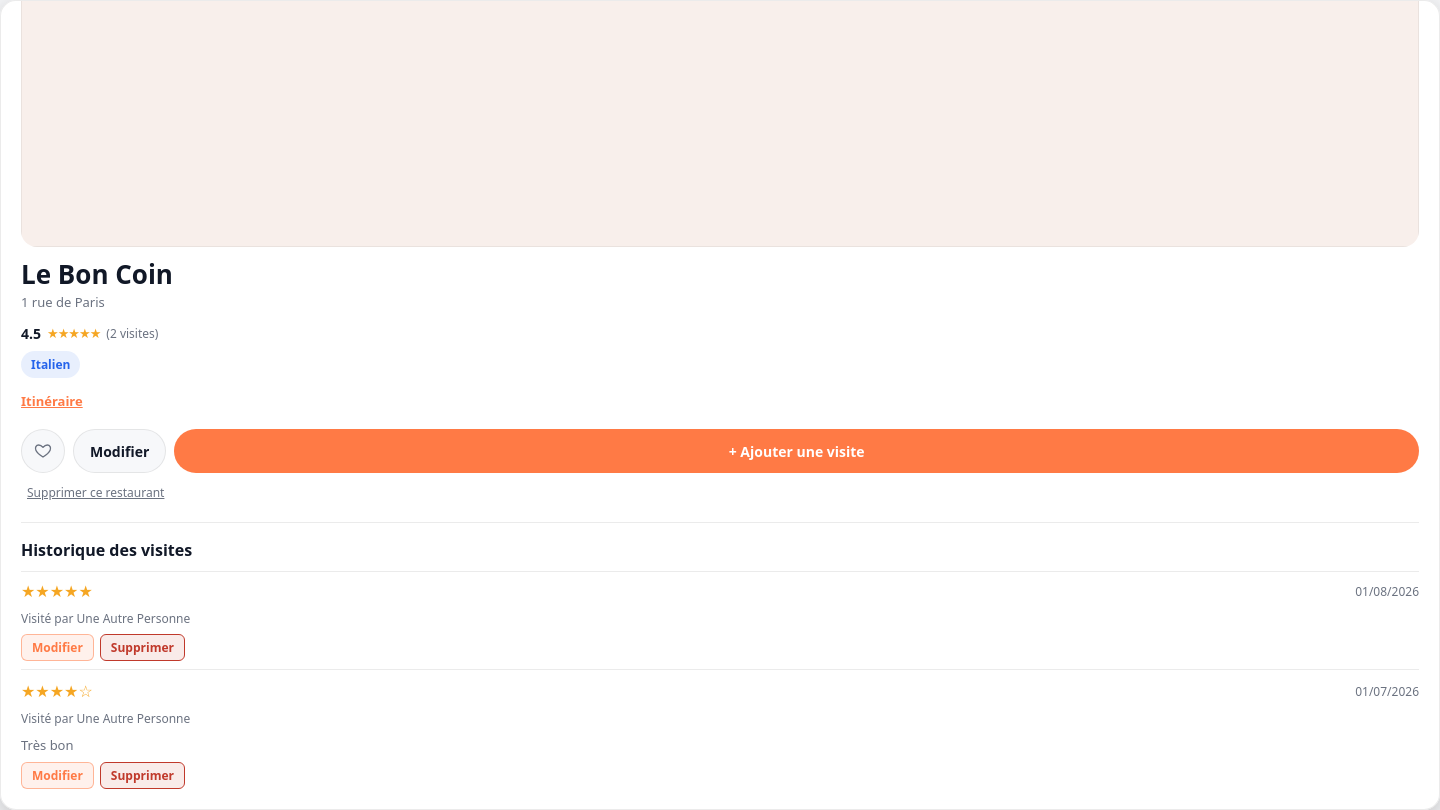
Test: RestaurantDetailPanel › bascule le favori via useFavoriToggle
The width and height of the screenshot is (1440, 810).
(page scrolled)
Click the button named "Ajouter Le Bon Coin aux favoris": (43, 451) [21,429,65,473]
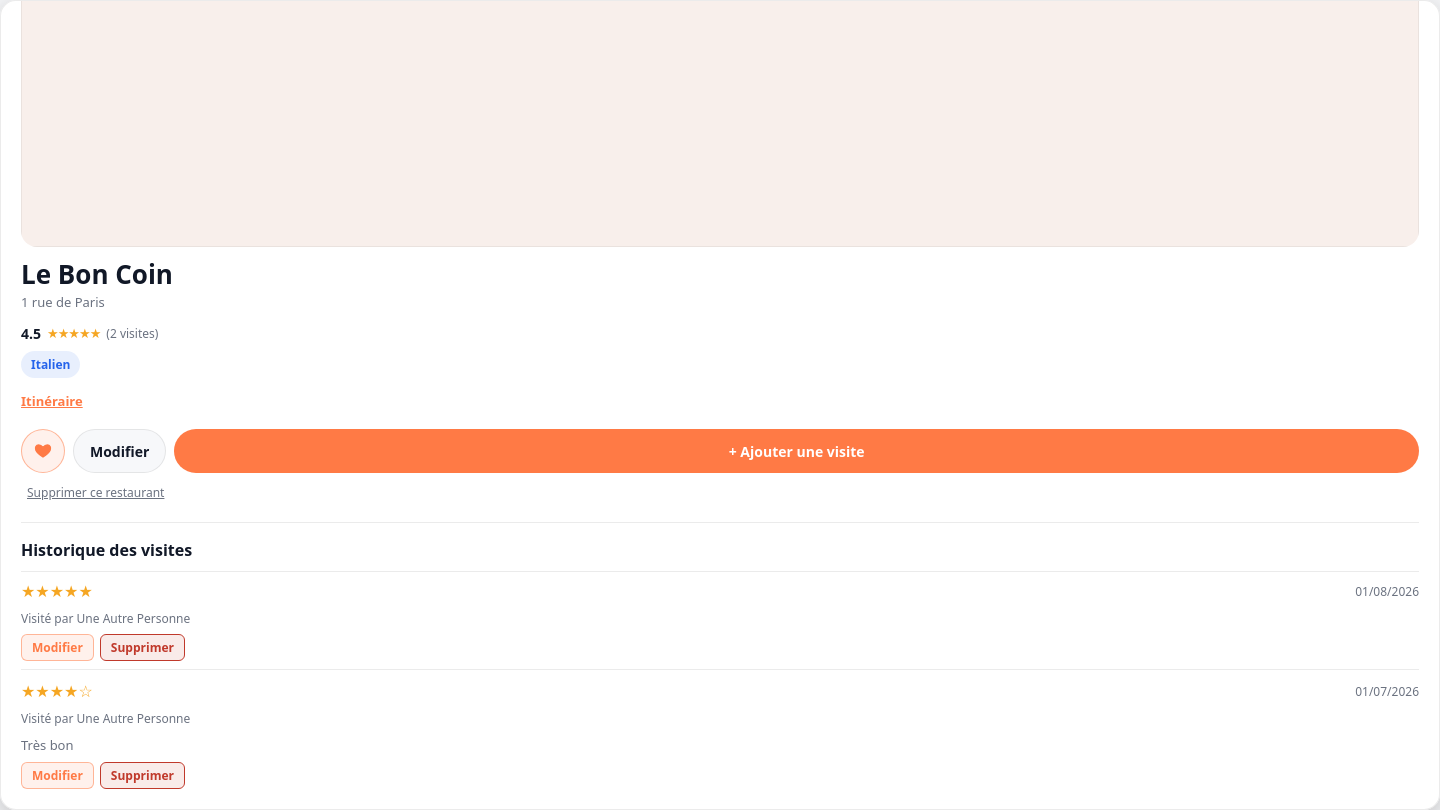
Result: the button named "Retirer Le Bon Coin des favoris" is shown at [21,429,65,473]
